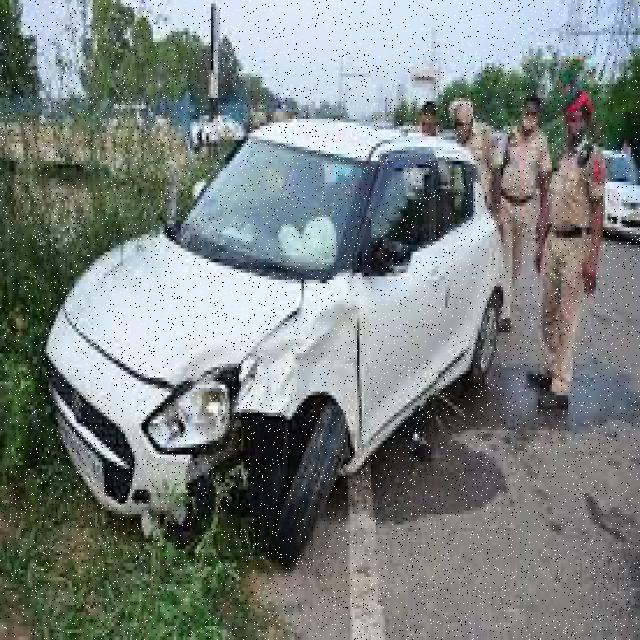bumper: (240, 352, 363, 506)
hood: (49, 357, 239, 546)
